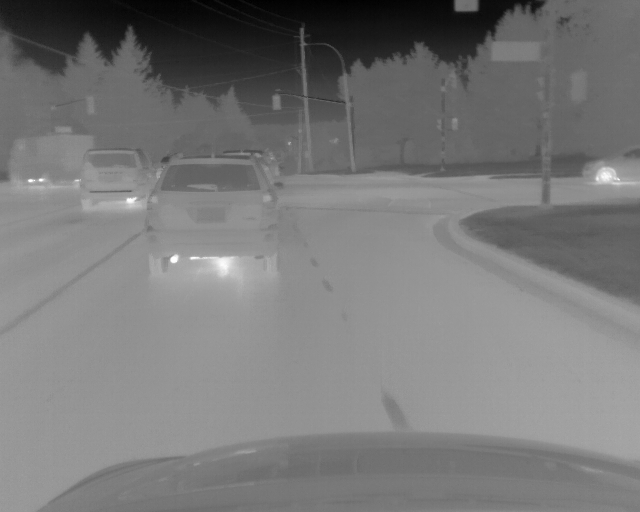car: (144, 154, 282, 271), (7, 129, 95, 188), (80, 148, 154, 211), (582, 144, 640, 187)
